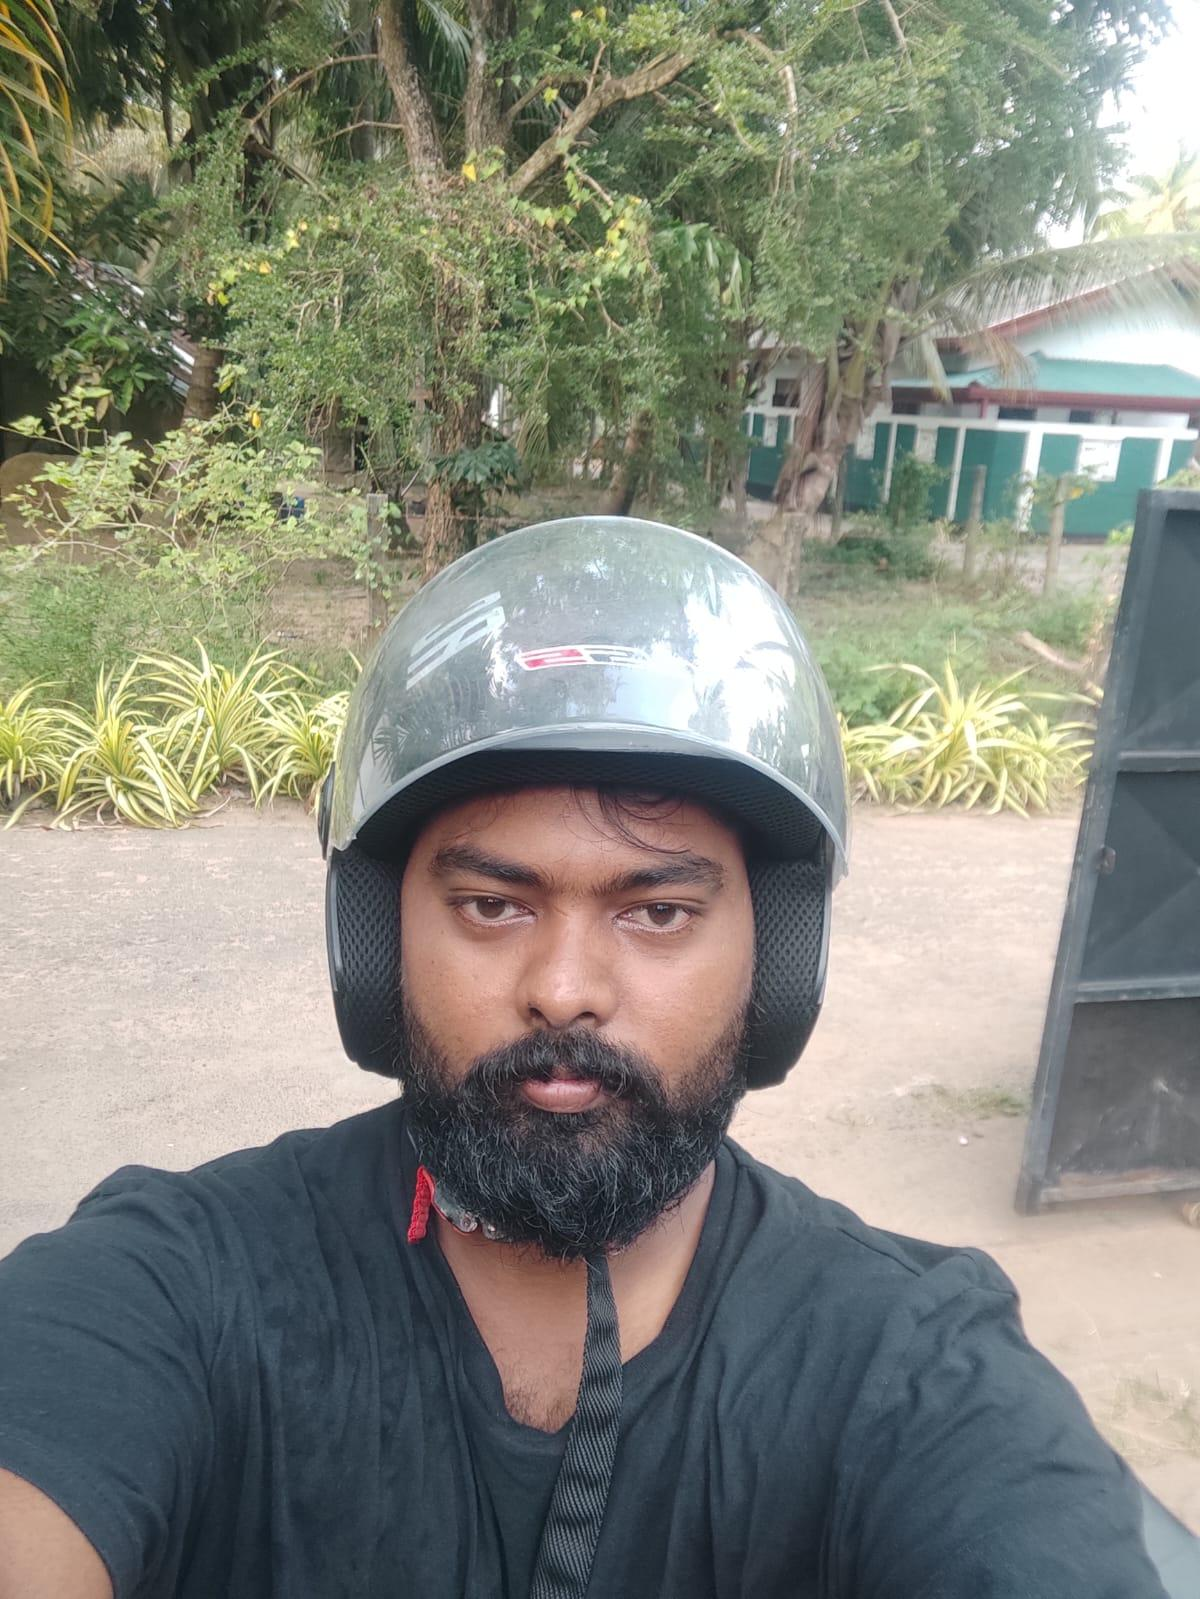helmet: (318, 513, 850, 1091)
